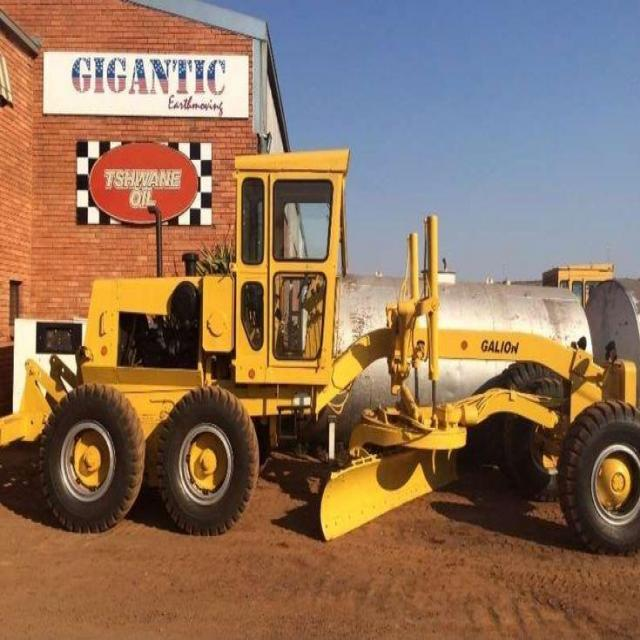Grader: (9, 141, 639, 564)
